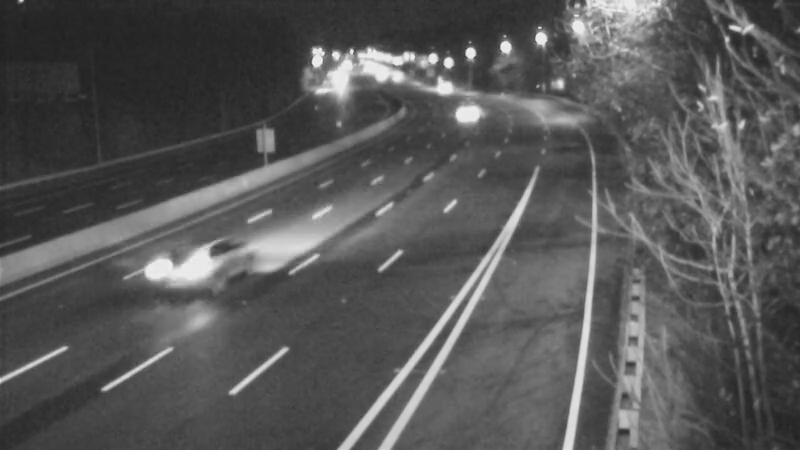vehicle: (148, 221, 228, 301), (373, 50, 423, 100), (412, 62, 462, 112), (444, 81, 494, 131)
